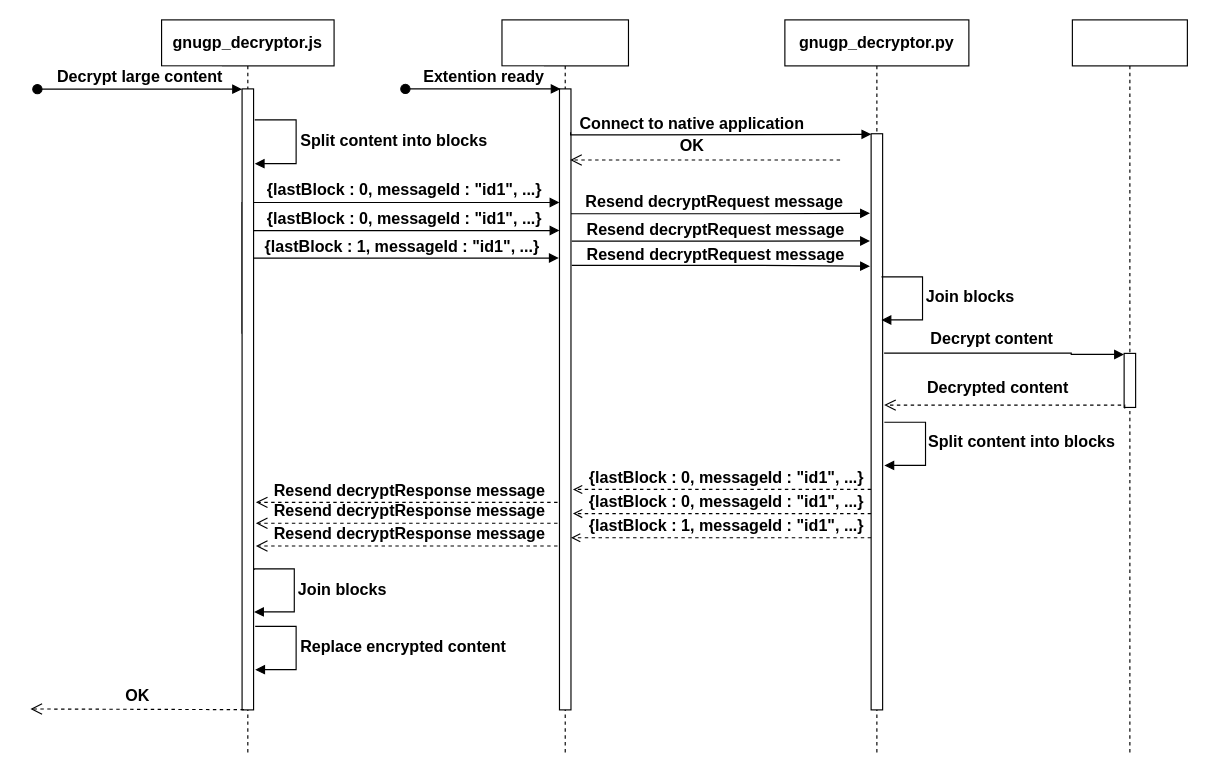
Some shapes in this 1208 by 776 pixel diagram are drawn without their labels. The box of each missing label's shape, as (x1, y1, x2, y2) in pixels:
background.js: (501, 19, 628, 756)
GnuPG: (1071, 19, 1187, 756)
